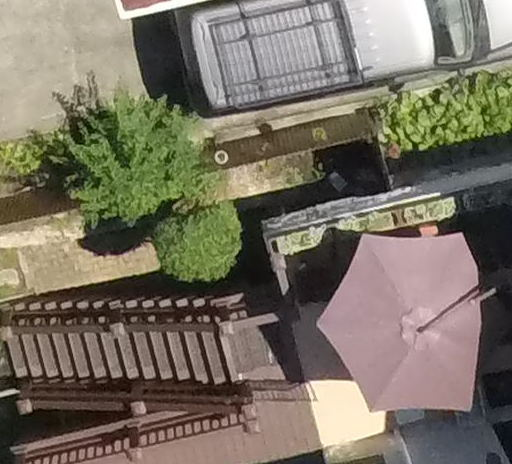container: (211, 149, 227, 164)
umbrella: (313, 210, 512, 424)
